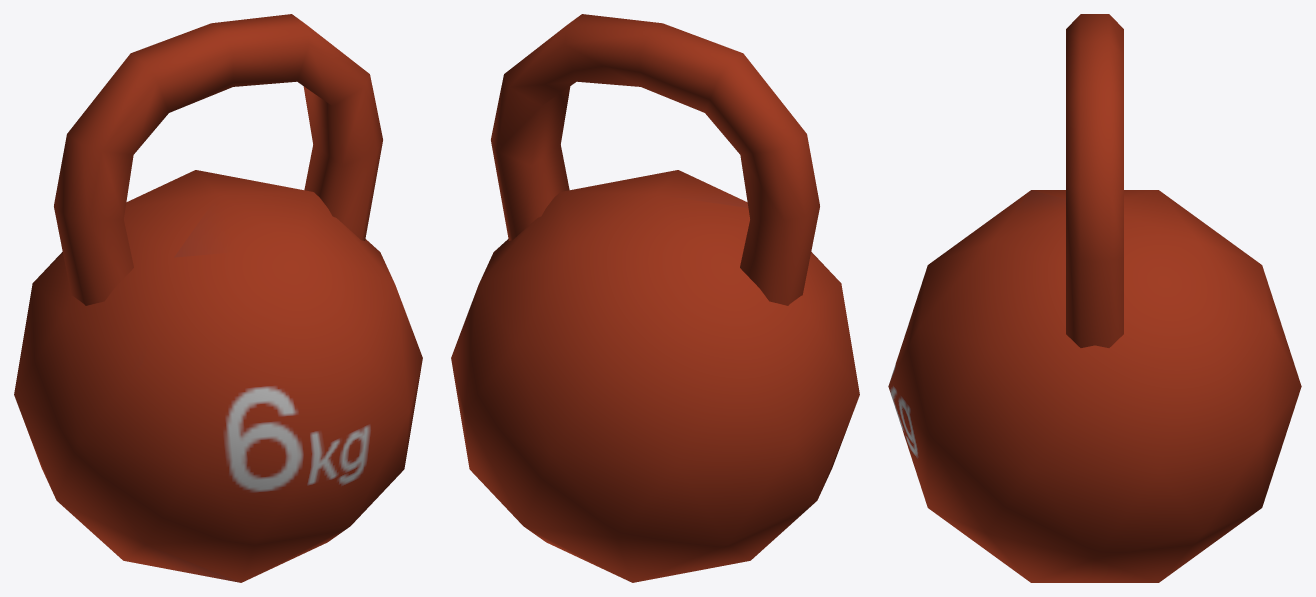
File: kettlebell.glb
The picture shows the model from 3 angles, left to right: view 1: azimuth 30°, elevation 25°; view 2: azimuth 150°, elevation 25°; view 3: azimuth 270°, elevation 25°; orthographic projection.
Parts seen in each view (by area): view 1: Kettlebell; view 2: Kettlebell; view 3: Kettlebell.
Boxes of the visible parts, x1=… form: Kettlebell: x1=14, y1=14, x2=422, y2=582; Kettlebell: x1=451, y1=14, x2=859, y2=582; Kettlebell: x1=888, y1=14, x2=1301, y2=582.
Bounding box in the file's own units: 21.49 × 30.35 × 22.59.
Materials: 1 (1 with a texture image).
